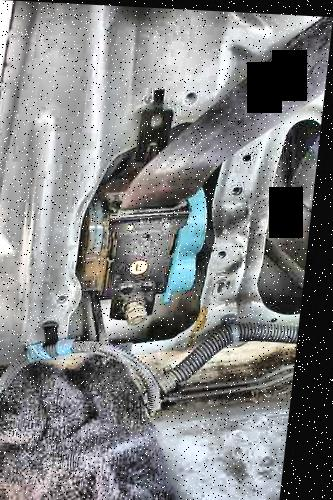seatbelt: (150, 18, 298, 215)
